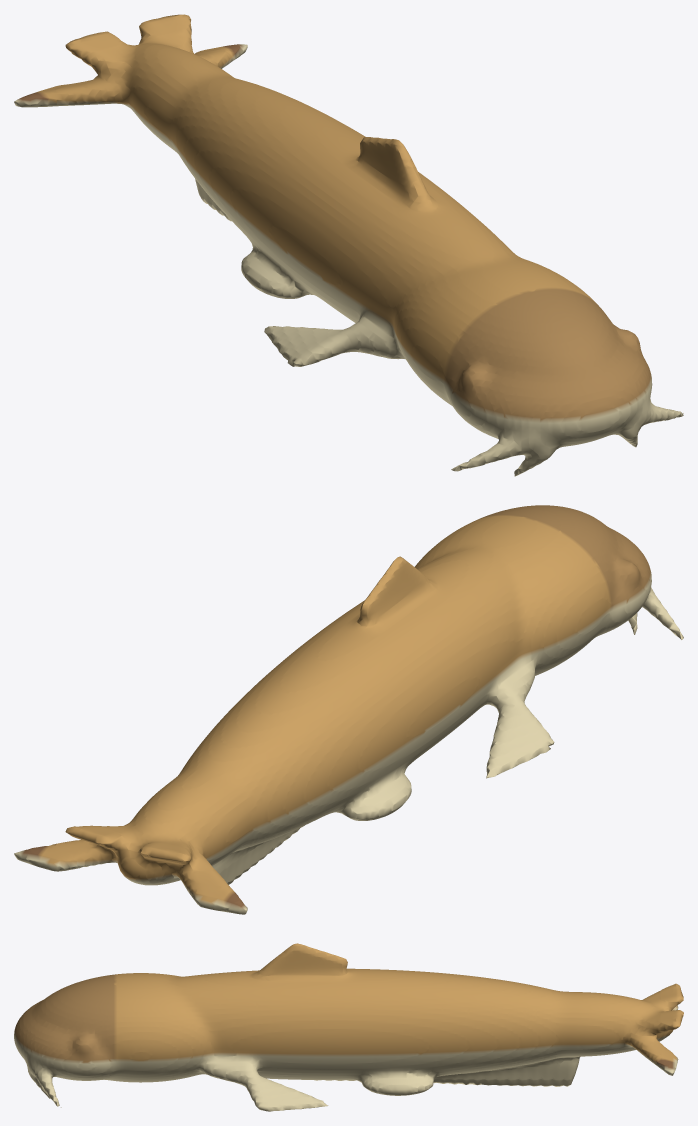
Rendered from catfish.glb.
The picture shows the model from 3 angles, top to bottom: view 1: azimuth 30°, elevation 25°; view 2: azimuth 150°, elevation 25°; view 3: azimuth 270°, elevation 25°; orthographic projection. The views are drawn at different scales.
Visible parts, largest first — view 1: catfish; view 2: catfish; view 3: catfish.
Boxes of the visible parts, x1,y1,x2,y2 form: catfish: [14, 14, 683, 476]; catfish: [14, 505, 683, 914]; catfish: [14, 943, 683, 1111].
Size of the model in its own units: 1.95 by 1.48 by 6.25.
